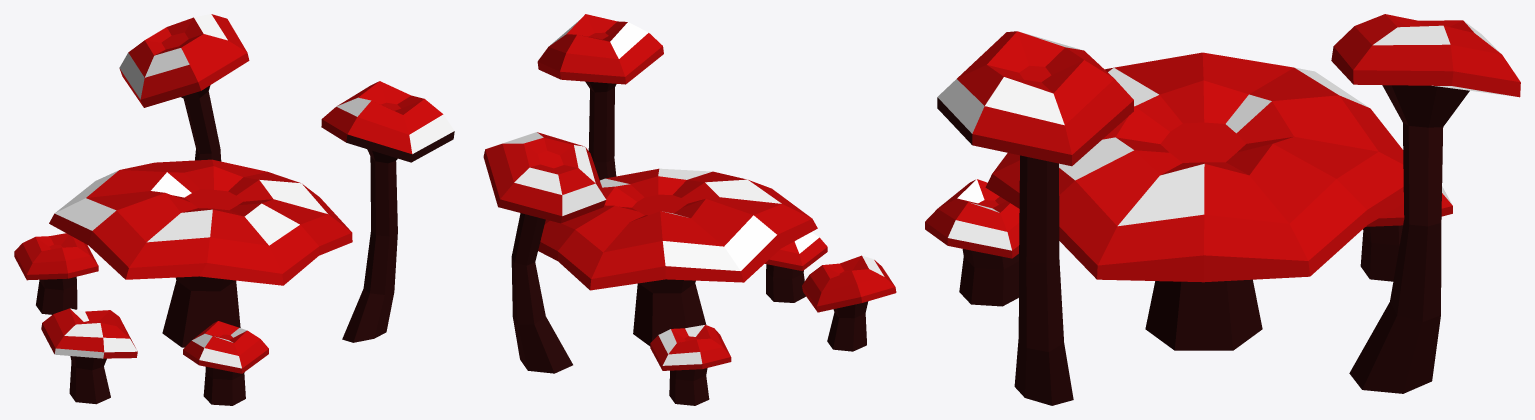
File: red-shrooms.fbx
The picture shows the model from 3 angles, left to right: view 1: azimuth 30°, elevation 25°; view 2: azimuth 150°, elevation 25°; view 3: azimuth 270°, elevation 25°; orthographic projection. The views are drawn at different scales.
Visible parts, largest first — view 1: chanterelle; view 2: chanterelle; view 3: chanterelle.
Part boxes in pixels (box(x1,y1,x2,y2)): chanterelle: box(14, 14, 454, 405); chanterelle: box(483, 14, 896, 405); chanterelle: box(925, 14, 1520, 405).
Bounding box in the file's own units: 25.28 × 16.31 × 23.43.
